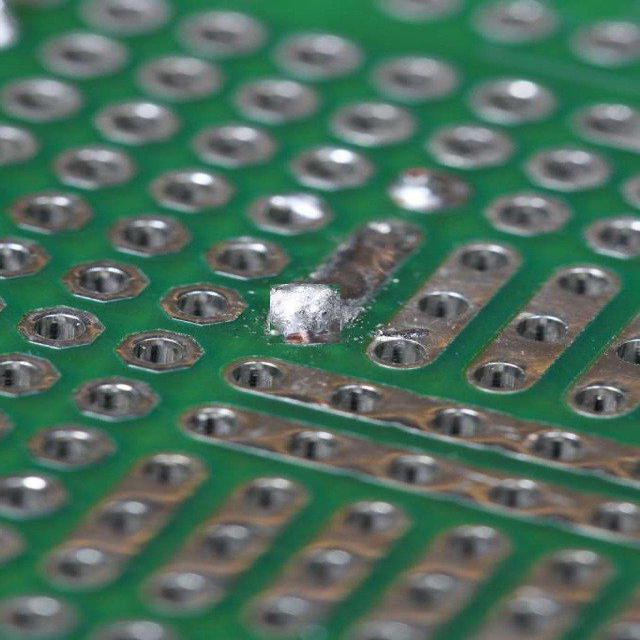redundant: (270, 284, 338, 343)
